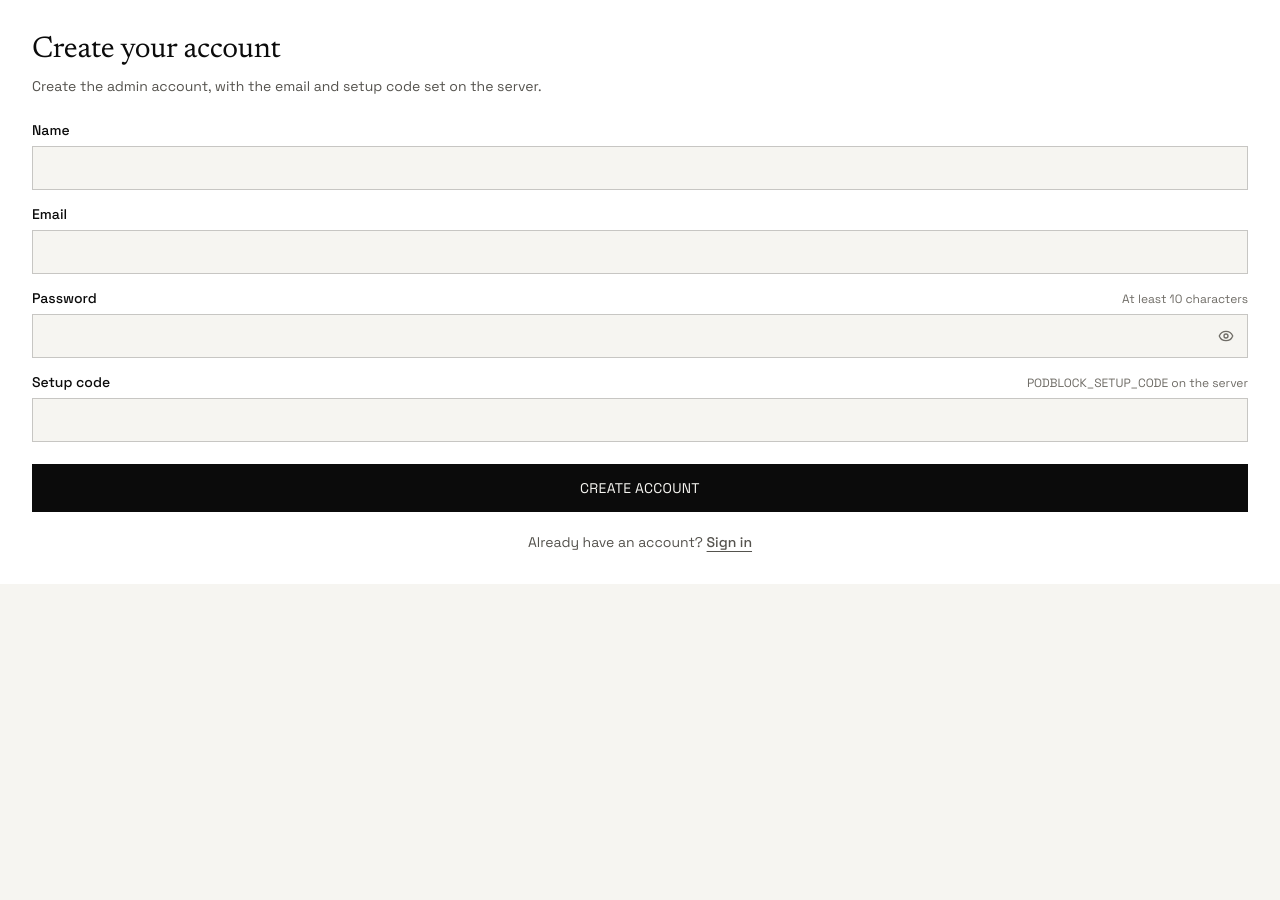
Scenario: sign-up form › asks for the setup code when the admin account doesn't exist yet, and sends it
Type "Owner" into the field labelled "Name". click: {"x": 640, "y": 168}
box: [32, 146, 1248, 190]
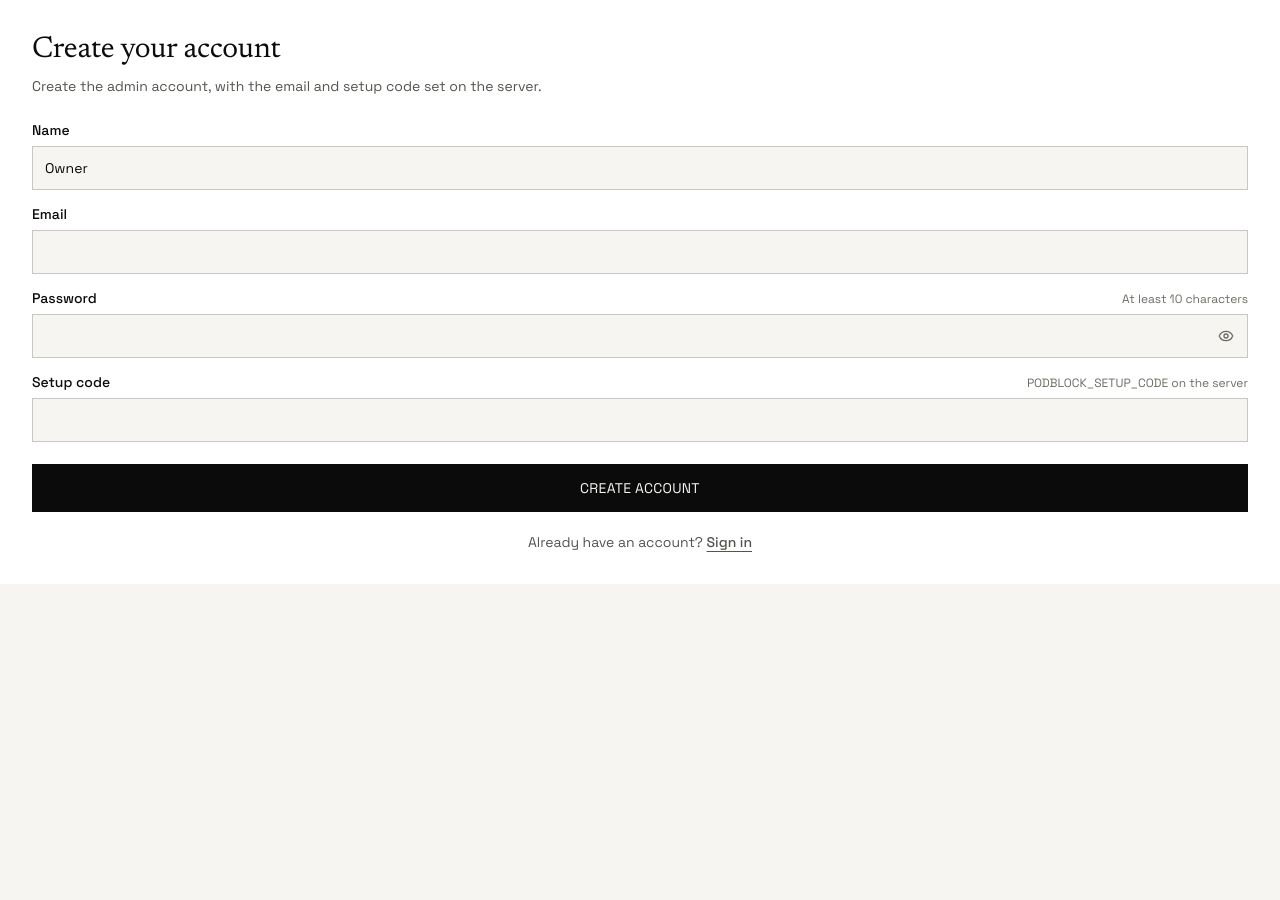
Type "owner@example.com" into the field labelled "Email". click: {"x": 640, "y": 252}
box: [32, 230, 1248, 274]
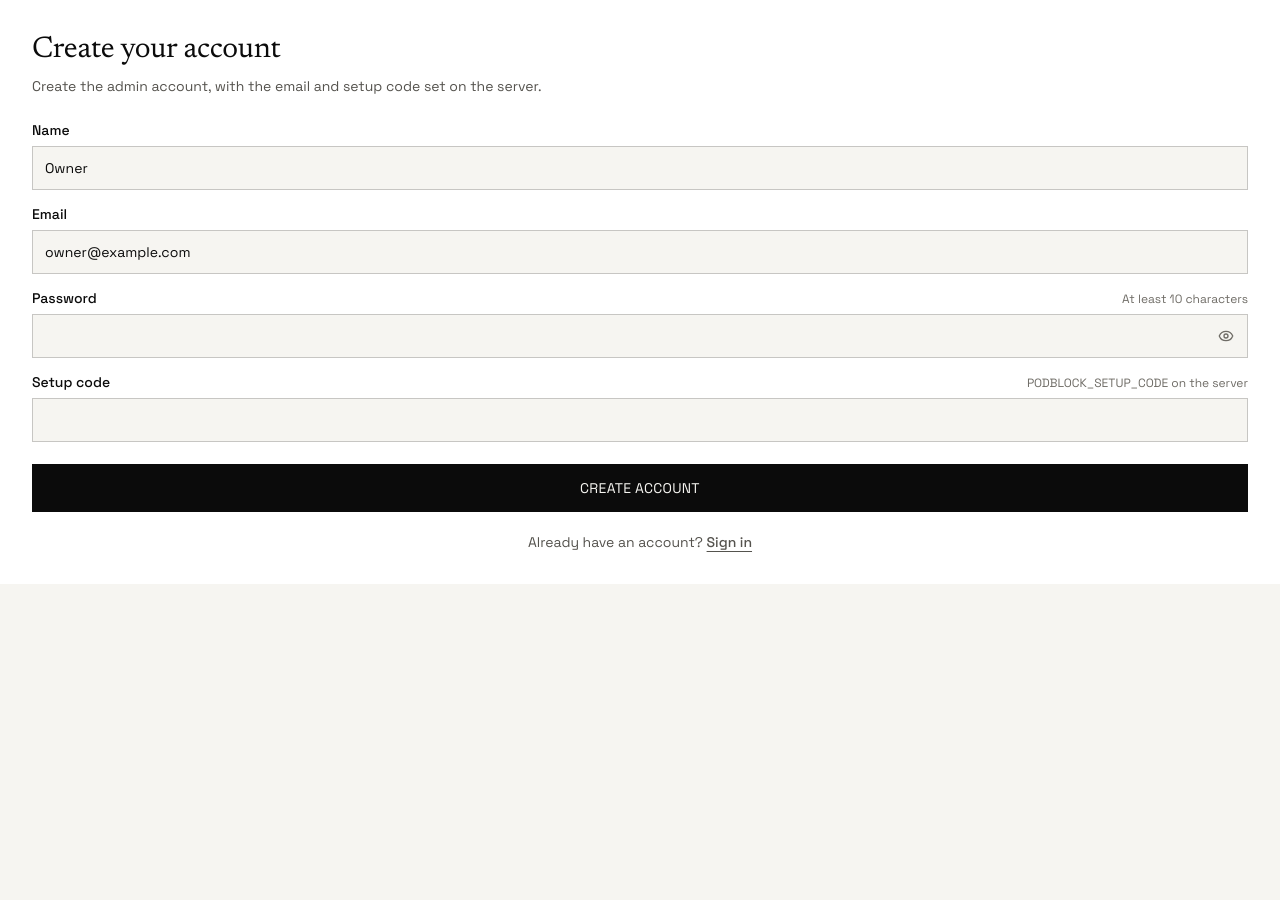
Type "long enough password" into the password field labelled "Password". click: {"x": 640, "y": 336}
box: [32, 314, 1248, 358]
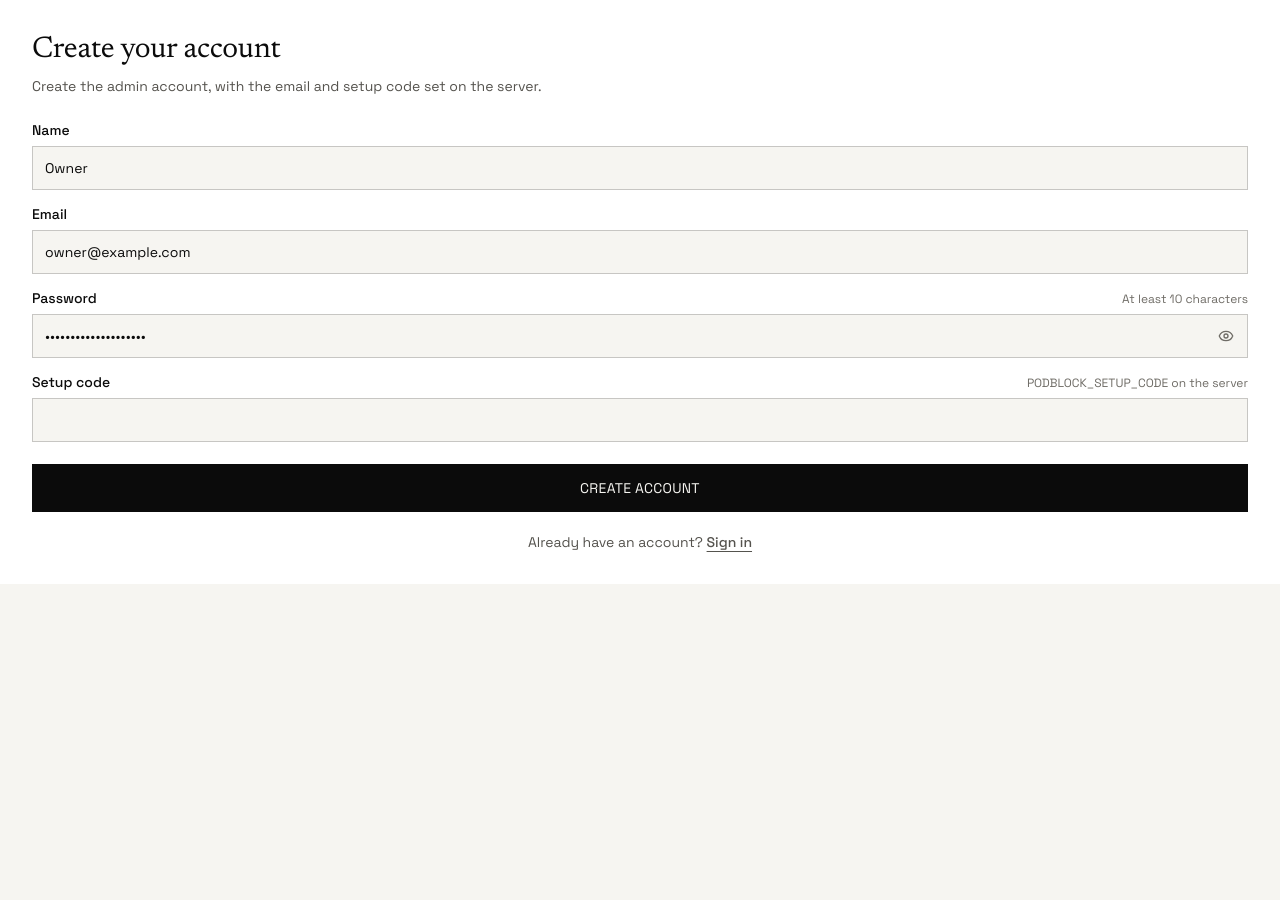
Type "the-code" into the field labelled "Setup code". click: {"x": 640, "y": 420}
box: [32, 398, 1248, 442]
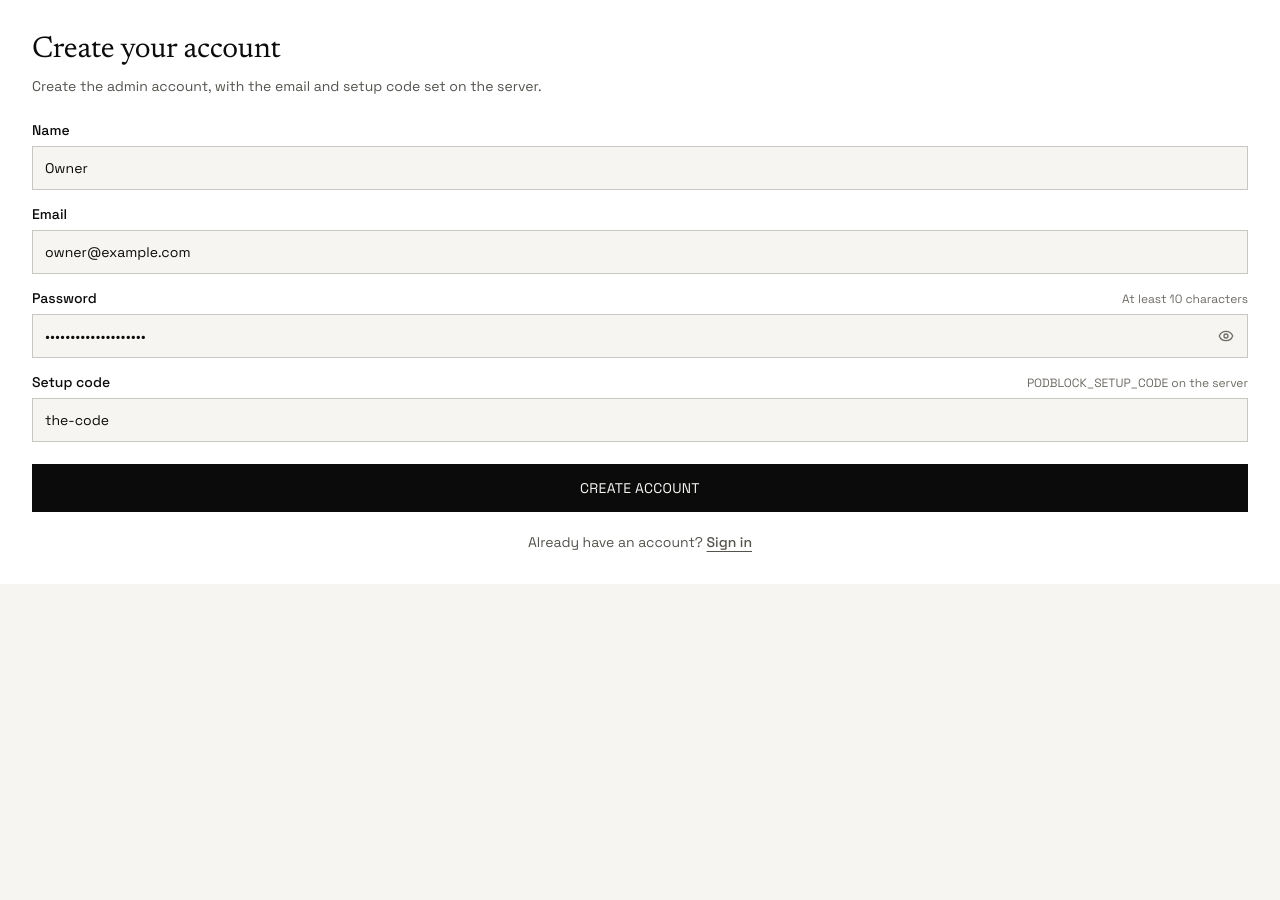
Submit the form named "Create account", box [32, 120, 1248, 512]
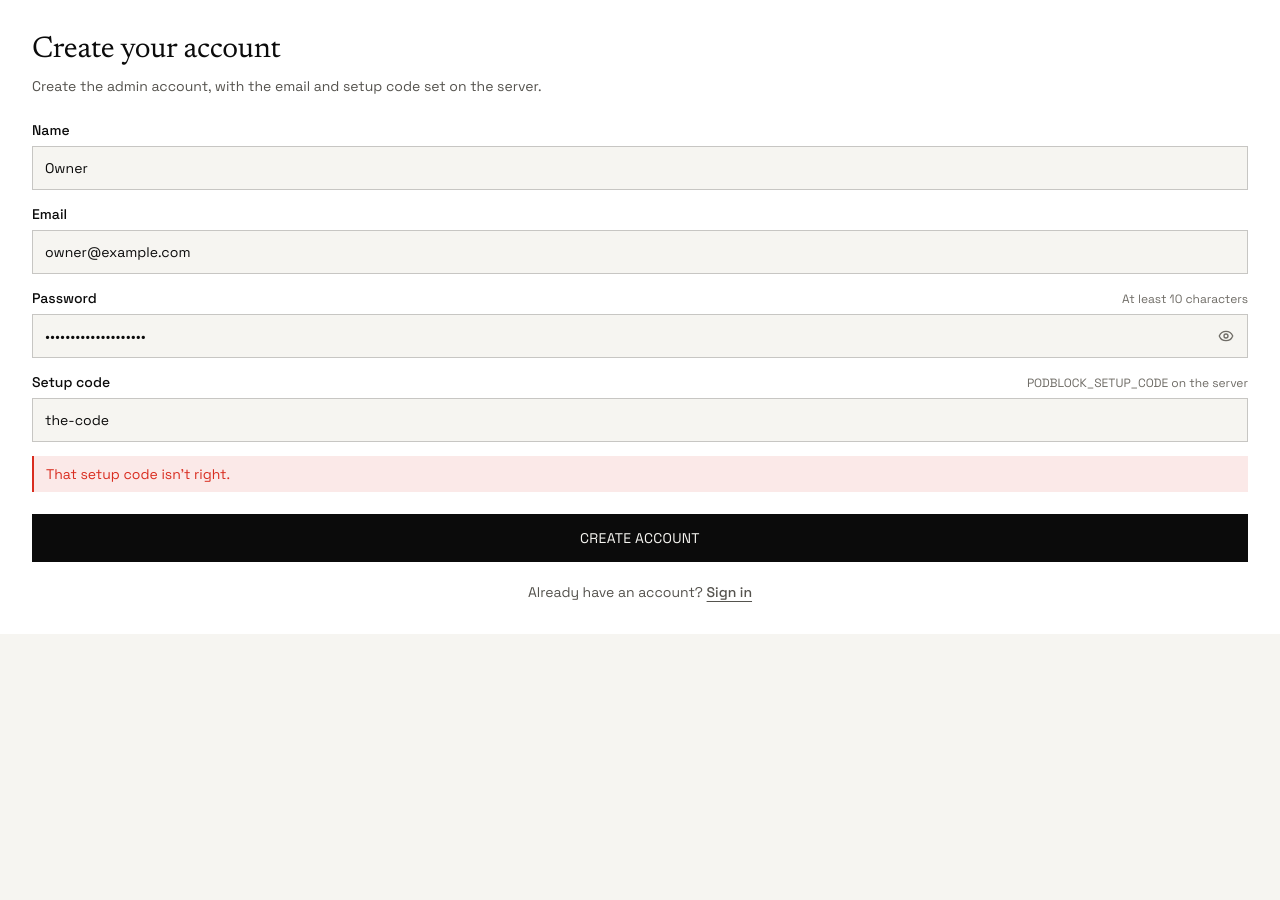
Now the text "That setup code isn't right." is shown, box [32, 456, 1248, 492]
